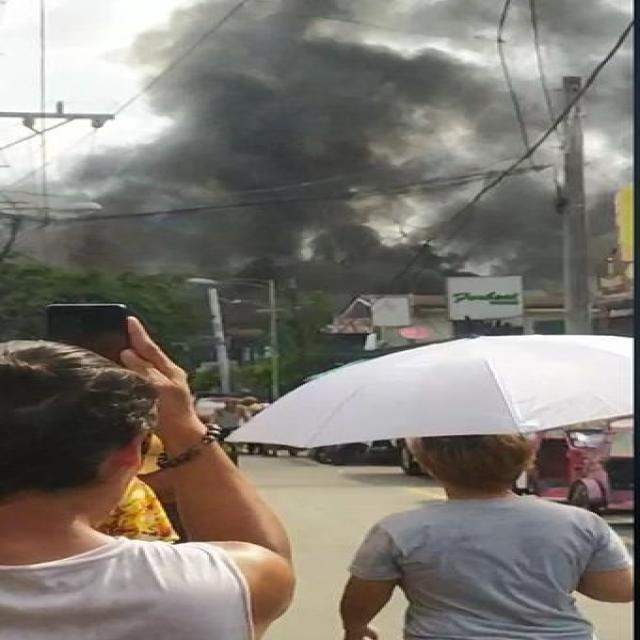Smoke: (96, 5, 565, 302)
